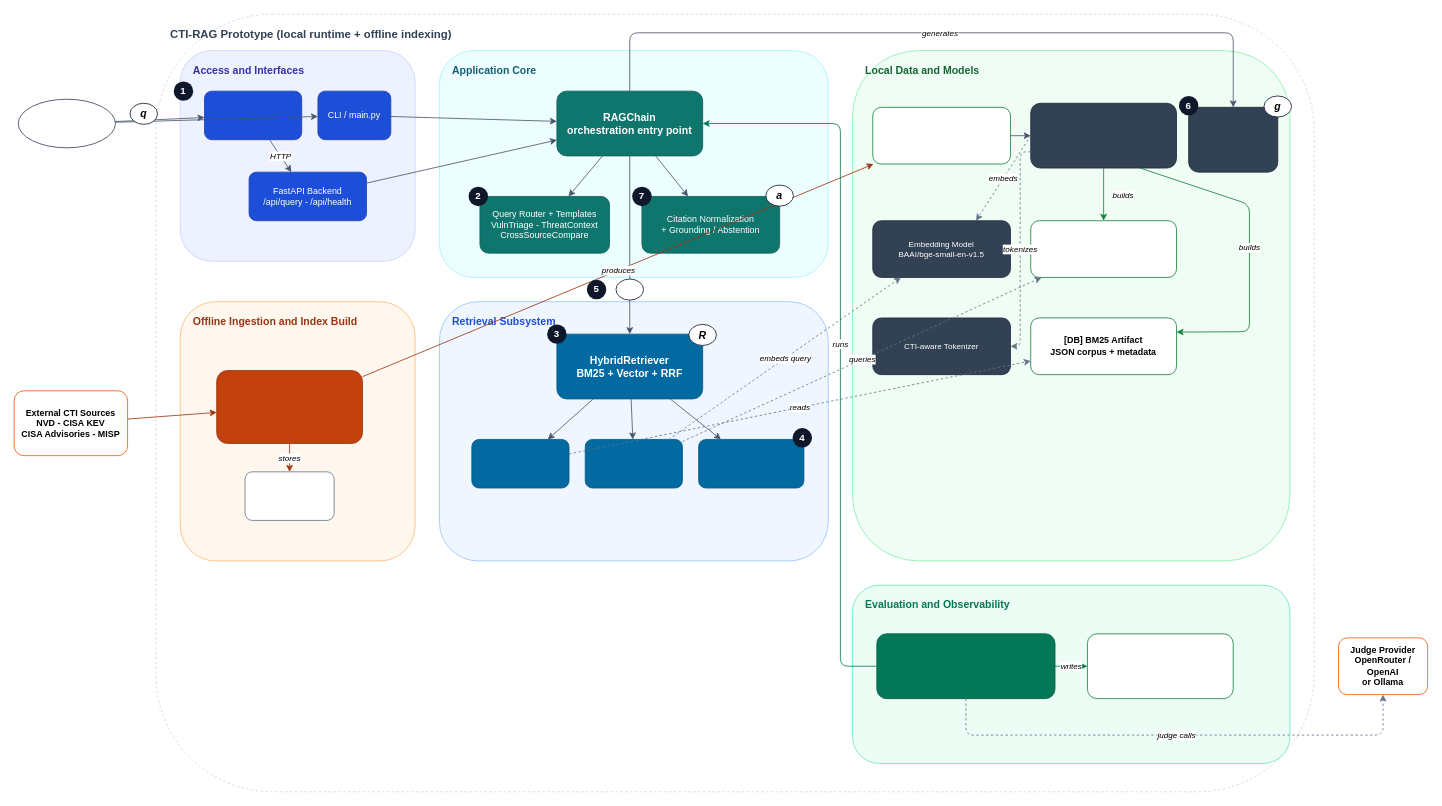
Some shapes in this 1442 by 806 pixel diagram are drawn without their labels. The centre of each missing label's shape, as x and y in pixels:
"[DB] ChromaDB vector store" belongs at pixel 1103 248.
"[DB] Evaluation Artifacts JSON - CSV - traces" belongs at pixel 1160 666.
"BM25 Search" belongs at pixel 520 463.
"C k" belongs at pixel 629 289.
"Cross-Encoder Reranker" belongs at pixel 751 463.
"CTIDocument Corpus" belongs at pixel 941 135.
"CTIIndexer builds retrieval artifacts" belongs at pixel 1103 135.
"Evaluation Harness RAGAS - Field Coverage - Rubric" belongs at pixel 965 666.
"Ollama Runtime Llama 3.1 8B" belongs at pixel 1233 139.
"Raw Snapshots JSON - HTML - RSS" belongs at pixel 289 495.
"Security Analyst" belongs at pixel 66 123.
"Source Downloaders + Parsers" belongs at pixel 289 406.
"Streamlit UI Analyst Workbench" belongs at pixel 253 115.
"Vector Search" belongs at pixel 633 463.
